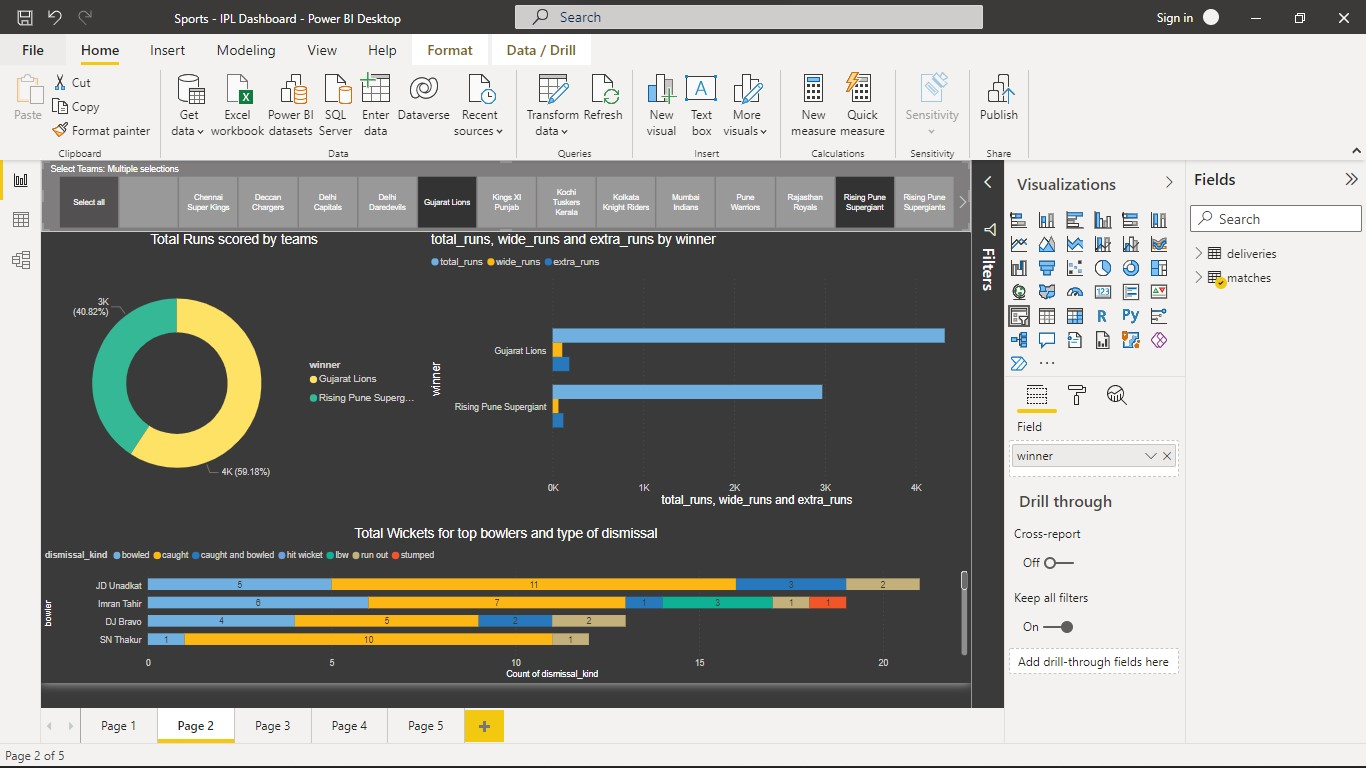

This screenshot's page, from the dashboard's own definition file:
{"tool":"powerbi","page":{"name":"Page 2","canvas":[1280,720],"ordinal":1},"visuals":[{"type":"slicer","fields":{"Values":["matches.winner"]},"box":[0,0,1279.8,99.6],"z":0},{"type":"donutChart","title":"Total Runs scored by teams","fields":{"Y":["deliveries.batsman_runs"],"Category":["matches.winner"]},"box":[0,99.4,531.1,394.8],"z":1000},{"type":"clusteredBarChart","fields":{"Y":["deliveries.total_runs","deliveries.wide_runs","deliveries.extra_runs"],"Category":["matches.winner"]},"box":[531.1,99.4,748.4,383.4],"z":2000},{"type":"barChart","title":"Total Wickets for top bowlers and type of dismissal","fields":{"Category":["deliveries.bowler"],"Series":["deliveries.dismissal_kind"],"Y":["deliveries.dismissal_kind"]},"box":[0,504.1,1279.5,215.9],"z":3000}]}

Visuals, with their boxes on the page's 1280x720 design canvas (x1, y1, x2, y2). These are canvas units, not pixel positions in the 1366x768 screenshot, which may show the page scaled, cropped or inside an application window:
slicer - matches.winner: [left=0, top=0, right=1280, bottom=100]
"Total Runs scored by teams" donutChart: [left=0, top=99, right=531, bottom=494]
clusteredBarChart - deliveries.total_runs x deliveries.wide_runs: [left=531, top=99, right=1280, bottom=483]
"Total Wickets for top bowlers and type of dismissal" barChart: [left=0, top=504, right=1280, bottom=720]
